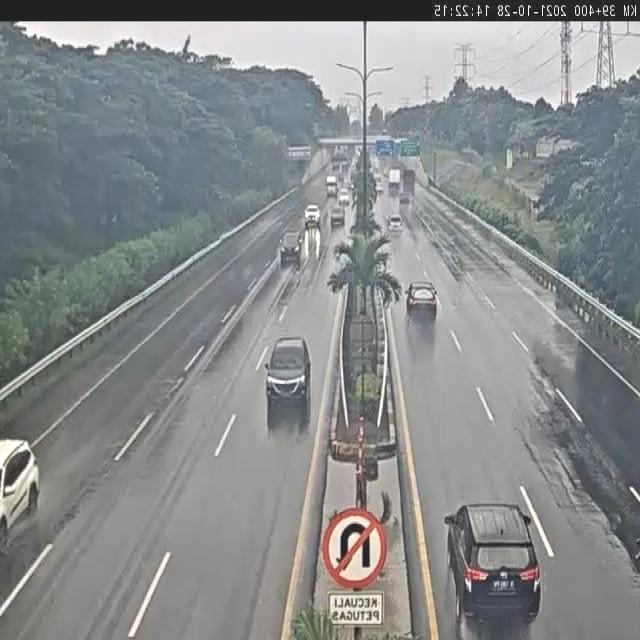Car: (442, 500, 545, 622), (0, 434, 40, 554), (263, 335, 314, 409), (405, 281, 439, 319), (278, 230, 303, 262), (302, 204, 320, 226), (329, 205, 345, 228), (387, 216, 404, 236), (337, 188, 351, 206), (399, 191, 411, 203), (375, 181, 384, 194)
Truck: (402, 168, 416, 192), (388, 166, 401, 188), (326, 175, 338, 198)
